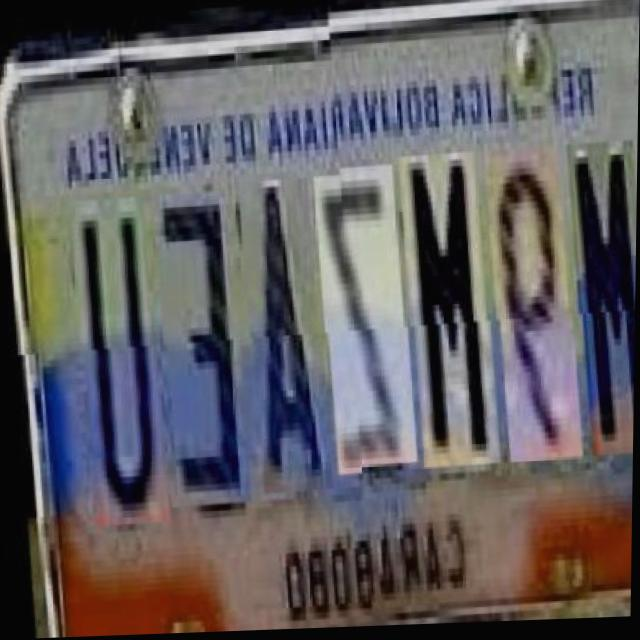9: (479, 155, 577, 472)
a: (232, 177, 327, 493)
e: (146, 188, 244, 506)
m: (393, 160, 494, 477), (561, 149, 638, 467)
u: (63, 193, 163, 523)
z: (308, 171, 411, 476)
